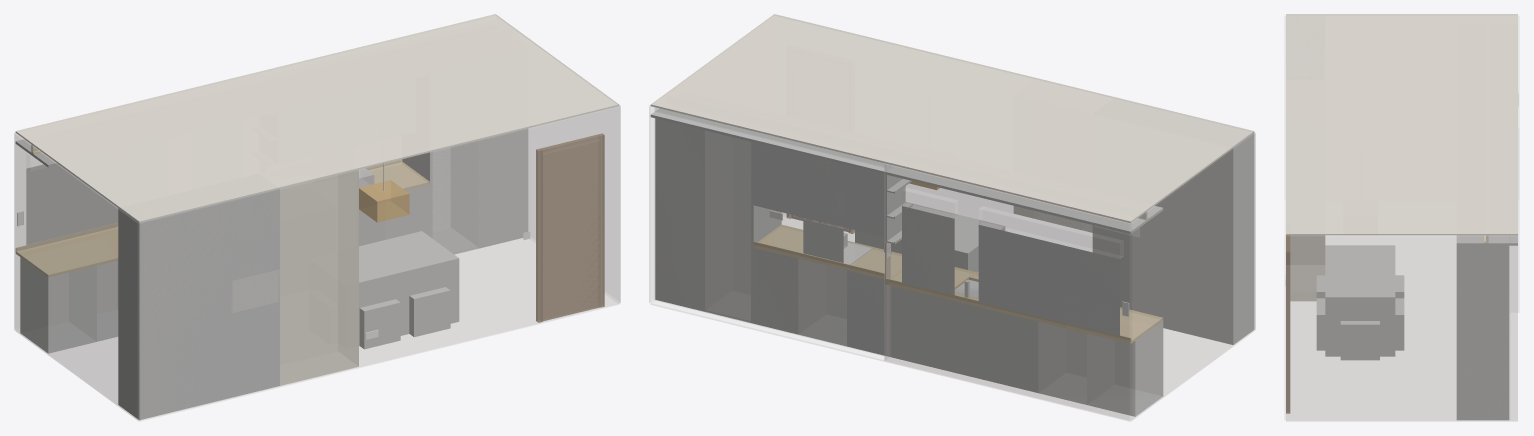
File: cocina.obj
3 renders of one model, left to right at view 1: azimuth 30°, elevation 25°; view 2: azimuth 150°, elevation 25°; view 3: azimuth 270°, elevation 25°, orthographic. The views are drawn at different scales.
Visible parts, largest first — view 1: Pared Sur, Techo, Pared Oeste, Columna azulejo, Caldera, Suelo, Puerta, Despensa Sur, Mesa comedor, Lavadora, Pared Este, Escobero (+17 smaller); view 2: Techo, Pared Norte izq, Pared Norte der, Pared Oeste, Caldera, Ventana grande, Escobero, Frigorífico, Cajones, Vuelo, Lavadora, Suelo (+25 smaller); view 3: Techo, Pared Este, Suelo, Escobero, Mesa comedor, Columna azulejo, Silla 6, Marco puerta der, Pared Sur, Vuelo, Pared Norte izq, Silla 2 (+4 smaller).
Part boxes in pixels (x1,y1,x2,y2): Pared Sur: (139, 106, 619, 420); Techo: (15, 14, 619, 223); Pared Oeste: (14, 133, 138, 420); Columna azulejo: (280, 169, 358, 385); Caldera: (118, 205, 185, 420); Suelo: (16, 238, 618, 421); Puerta: (542, 140, 600, 321); Despensa Sur: (174, 195, 231, 408); Mesa comedor: (359, 231, 459, 345); Lavadora: (20, 257, 96, 353); Pared Este: (529, 105, 620, 302); Escobero: (480, 128, 528, 248); Techo: (650, 14, 1254, 223); Pared Norte izq: (884, 163, 1130, 420); Pared Norte der: (654, 107, 884, 355); Pared Oeste: (1131, 133, 1255, 420); Caldera: (1187, 124, 1254, 344); Ventana grande: (978, 225, 1119, 336); Escobero: (655, 118, 703, 311); Frigorífico: (705, 130, 752, 322); Cajones: (847, 252, 943, 369); Vuelo: (650, 108, 1163, 233); Lavadora: (1087, 320, 1163, 416); Suelo: (651, 215, 1253, 421); Techo: (1286, 14, 1517, 235); Pared Este: (1286, 235, 1517, 420); Suelo: (1286, 236, 1517, 421); Escobero: (1456, 245, 1509, 420); Mesa comedor: (1325, 245, 1395, 356); Columna azulejo: (1290, 235, 1325, 301); Silla 6: (1340, 321, 1379, 360); Marco puerta der: (1286, 250, 1290, 413); Pared Sur: (1284, 16, 1285, 419); Vuelo: (1456, 235, 1517, 245); Pared Norte izq: (1518, 16, 1519, 312); Silla 2: (1316, 298, 1325, 350).
Bounding box in the file's own units: 5.98 × 2.37 × 2.69.
